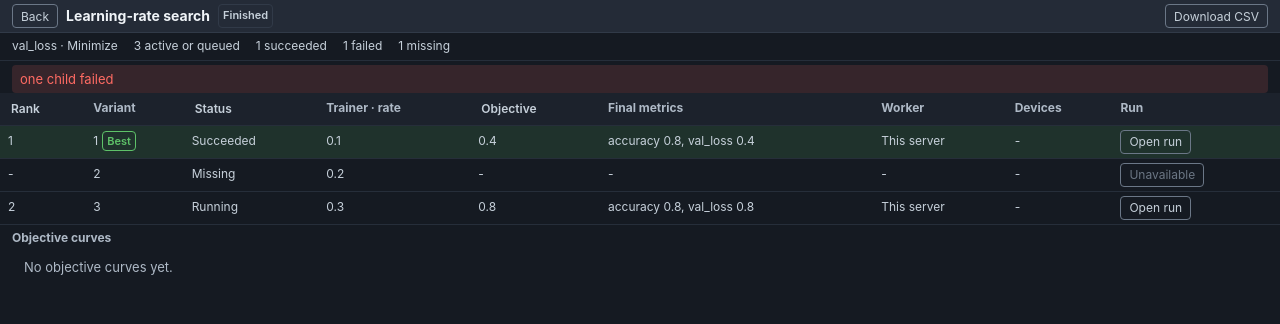
Test: SweepDetail › keeps a failed CSV export on screen, whatever was thrown
Click the button "Download CSV". click: (1216, 16)
box: top-left (1165, 4), bottom-right (1268, 28)
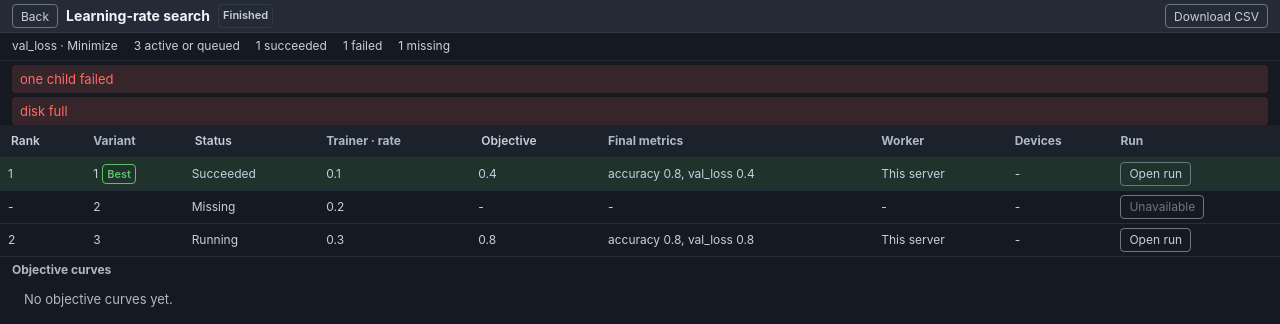
Check: the text "disk full" is shown, box top-left (12, 97), bottom-right (1268, 125)
Click the button "Download CSV". click: (1216, 16)
box: top-left (1165, 4), bottom-right (1268, 28)
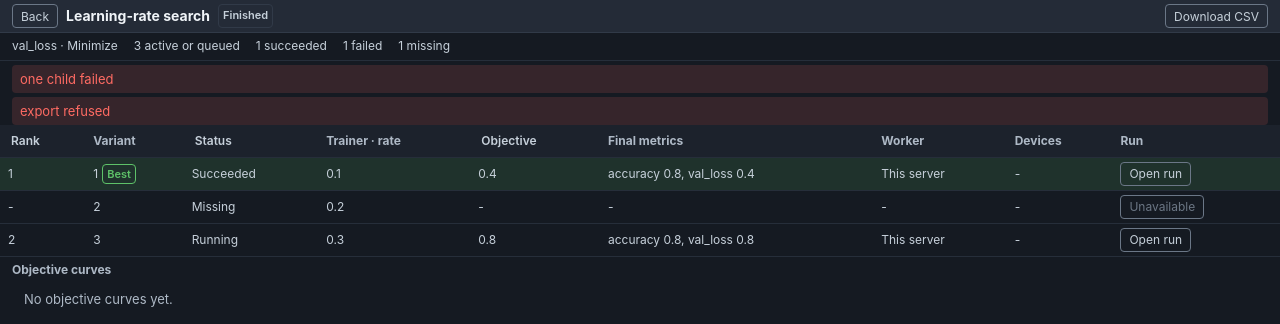
Check: the text "disk full" is gone
Check: the text "export refused" is shown, box top-left (12, 97), bottom-right (1268, 125)
